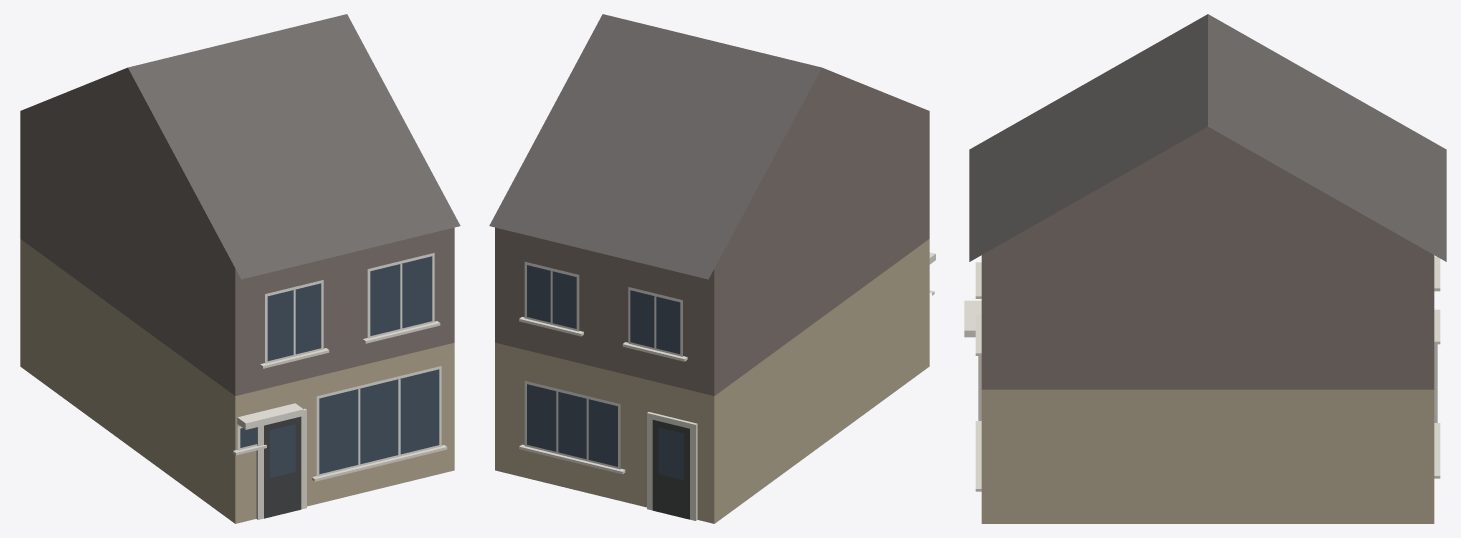
The model's file is zo-rb-two-tone__snelleveld__2__gable__long__solid__mirror.glb.
The picture shows the model from 3 angles, left to right: view 1: azimuth 30°, elevation 25°; view 2: azimuth 150°, elevation 25°; view 3: azimuth 270°, elevation 25°; orthographic projection. The views are drawn at different scales.
Visible parts, largest first — view 1: zo-rb-two-tone__snelleveld__2__gable__long__solid__mirror; view 2: zo-rb-two-tone__snelleveld__2__gable__long__solid__mirror; view 3: zo-rb-two-tone__snelleveld__2__gable__long__solid__mirror.
Boxes of the visible parts, bbox=[...] form: zo-rb-two-tone__snelleveld__2__gable__long__solid__mirror: bbox=[20, 14, 460, 523]; zo-rb-two-tone__snelleveld__2__gable__long__solid__mirror: bbox=[489, 14, 935, 523]; zo-rb-two-tone__snelleveld__2__gable__long__solid__mirror: bbox=[964, 14, 1446, 523].
Size of the model in its own units: 5.36 by 8.72 by 9.6.
